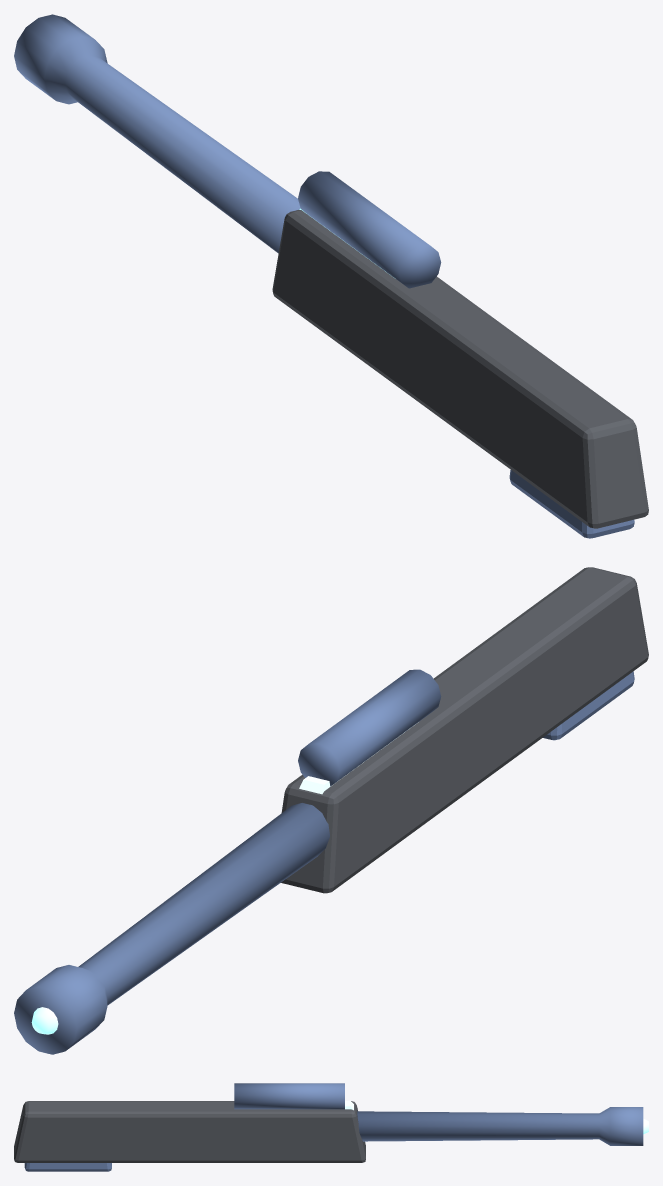
File: weapon_rifle_beam.glb
The picture shows the model from 3 angles, top to bottom: view 1: azimuth 30°, elevation 25°; view 2: azimuth 150°, elevation 25°; view 3: azimuth 270°, elevation 25°; orthographic projection. The views are drawn at different scales.
Visible parts, largest first — view 1: body, barrel, scope, stock; view 2: body, barrel, scope, stock; view 3: body, barrel, scope, stock.
Boxes of the visible parts, <box> form: body: <box>272,210,648,528</box>; barrel: <box>14,14,300,253</box>; scope: <box>298,171,441,288</box>; stock: <box>509,470,634,538</box>; body: <box>281,567,648,893</box>; barrel: <box>14,803,329,1054</box>; scope: <box>298,669,441,786</box>; stock: <box>543,671,634,740</box>; body: <box>14,1101,365,1162</box>; barrel: <box>357,1107,643,1145</box>; scope: <box>234,1083,344,1109</box>; stock: <box>24,1163,111,1171</box>.
Size of the model in its own units: 0.612 by 1.39 by 9.76.
